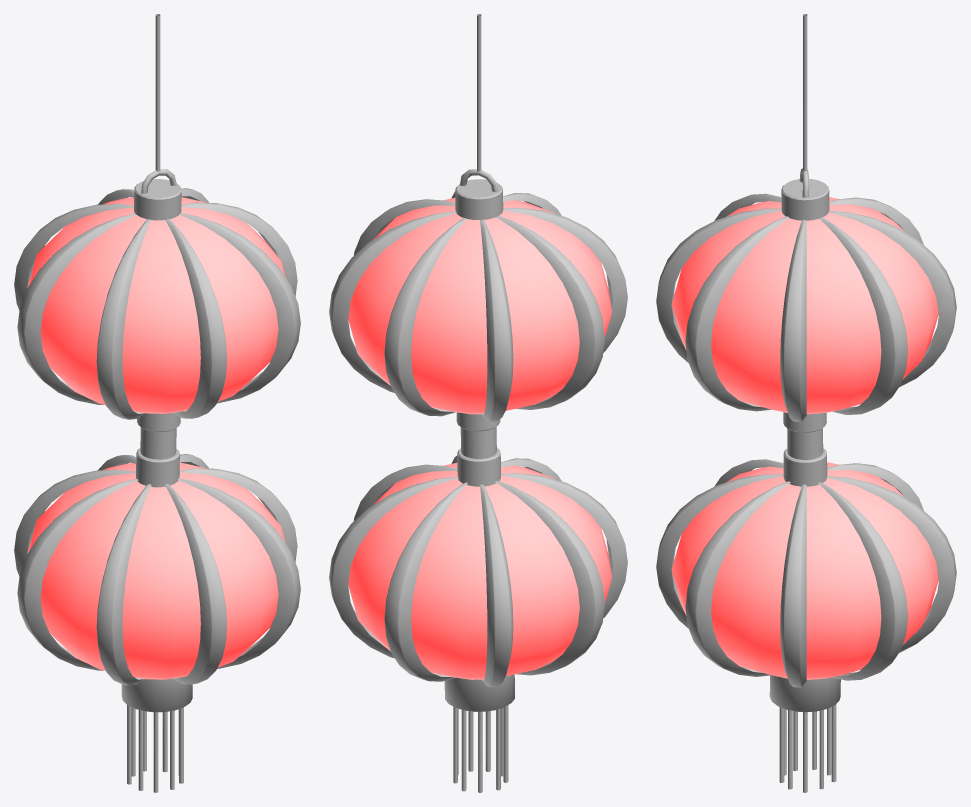
Rendered from SM_LightSet_Baloon3.FBX.
The picture shows the model from 3 angles, left to right: view 1: azimuth 30°, elevation 25°; view 2: azimuth 150°, elevation 25°; view 3: azimuth 270°, elevation 25°; orthographic projection.
Parts seen in each view (by area): view 1: SM_LightSet_Baloon3; view 2: SM_LightSet_Baloon3; view 3: SM_LightSet_Baloon3.
Boxes of the visible parts, x1,y1,x2,y2 form: SM_LightSet_Baloon3: [14, 14, 300, 792]; SM_LightSet_Baloon3: [329, 14, 627, 792]; SM_LightSet_Baloon3: [656, 14, 956, 792].
Size of what is drawn, in the model's own units: 70.23 by 70.23 by 197.
